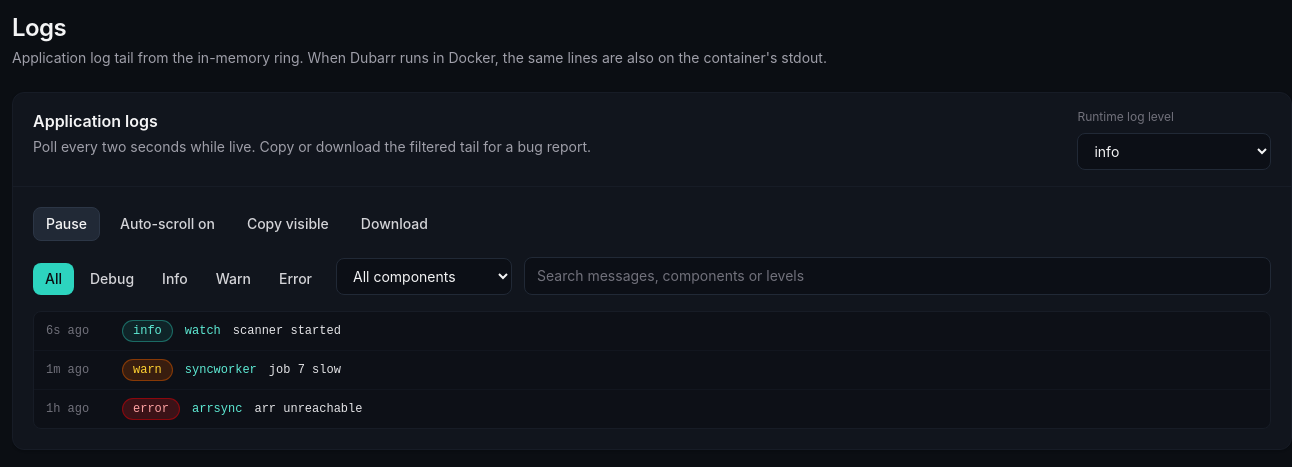
Scenario: logs page › filters by component
Expected: the text "scanner started" is shown, [233,324,341,338]
Select "syncworker" in the dropdown named "component" at (424, 276), box [336,258,512,295]
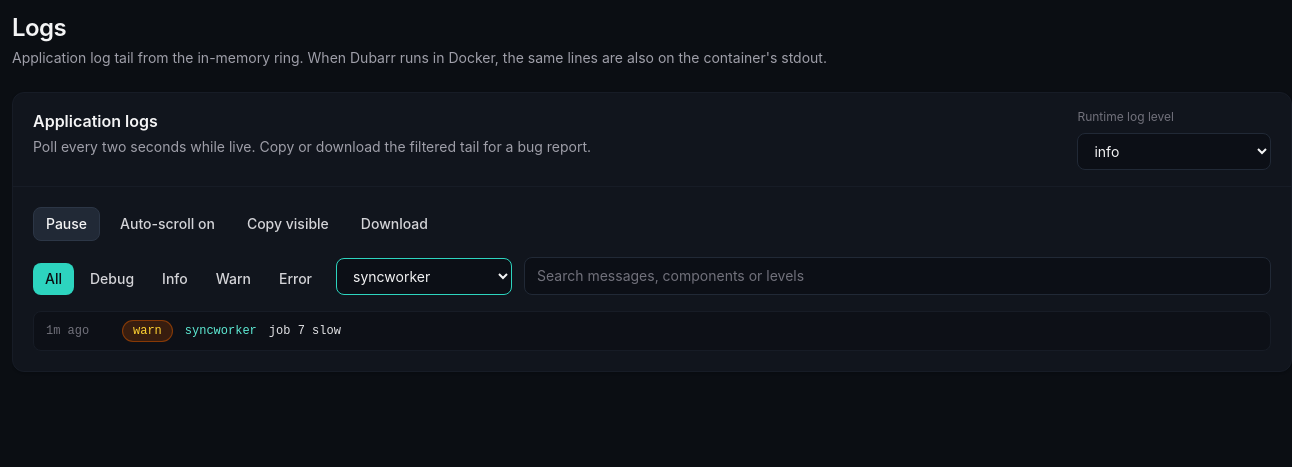
Expected: the text "job 7 slow" is shown, [269,324,341,338]
Expected: the text "scanner started" is gone
